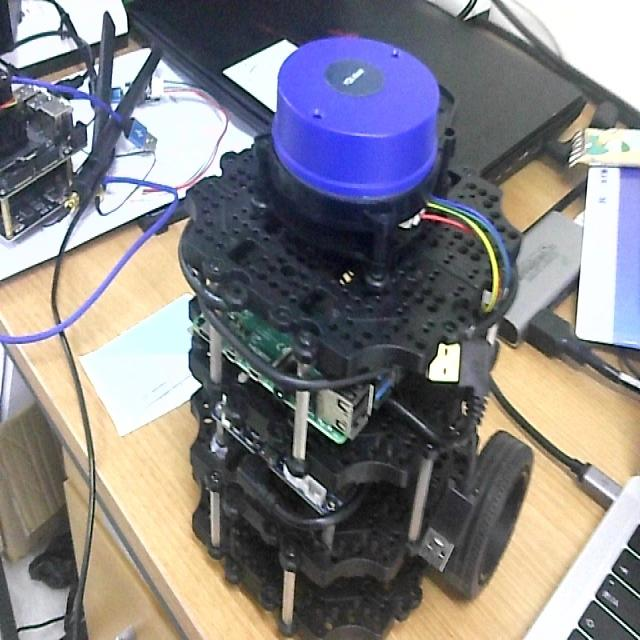turtle: (176, 32, 536, 640)
